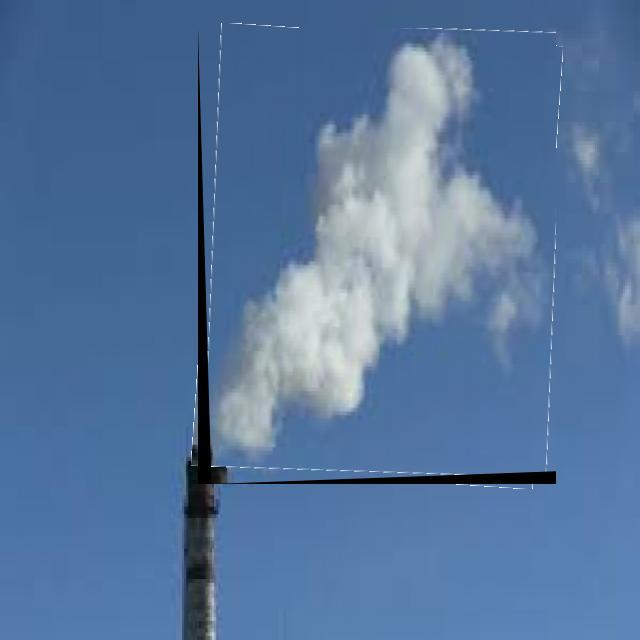smoke: (231, 40, 536, 459), (564, 46, 640, 360)
